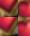heart: (0, 0, 18, 17), (18, 17, 30, 36), (18, 0, 30, 17)
